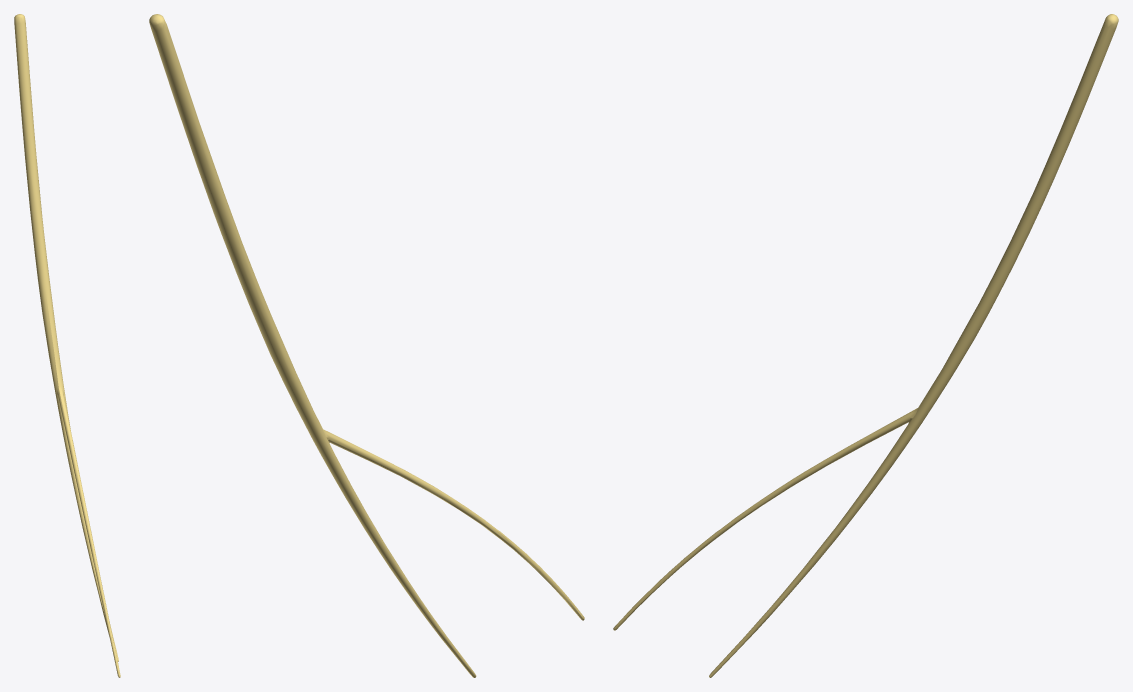
The model's file is fma52940_fj3957.glb.
3 renders of one model, left to right at view 1: azimuth 30°, elevation 25°; view 2: azimuth 150°, elevation 25°; view 3: azimuth 270°, elevation 25°, orthographic. The views are drawn at different scales.
Parts seen in each view (by area): view 1: FMA52940_FJ3957; view 2: FMA52940_FJ3957; view 3: FMA52940_FJ3957.
Part boxes in pixels (x1,y1,x2,y2): FMA52940_FJ3957: [14, 14, 120, 677]; FMA52940_FJ3957: [149, 14, 584, 677]; FMA52940_FJ3957: [613, 14, 1118, 677].
Bounding box in the file's own units: 0.00729 × 0.0392 × 0.0257.
